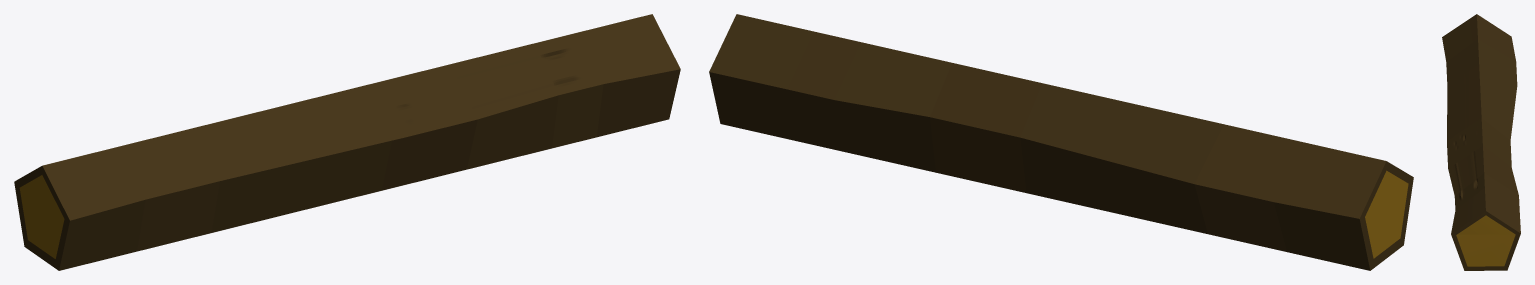
File: woodcut.glb
The picture shows the model from 3 angles, left to right: view 1: azimuth 30°, elevation 25°; view 2: azimuth 150°, elevation 25°; view 3: azimuth 270°, elevation 25°; orthographic projection. The views are drawn at different scales.
Parts seen in each view (by area): view 1: Cylinder.063; view 2: Cylinder.063; view 3: Cylinder.063.
Boxes of the visible parts, <box> form: Cylinder.063: <box>14,14,680,270</box>; Cylinder.063: <box>709,14,1413,270</box>; Cylinder.063: <box>1442,14,1520,270</box>.
Size of the model in its own units: 5.55 by 0.8328 by 0.9494.
